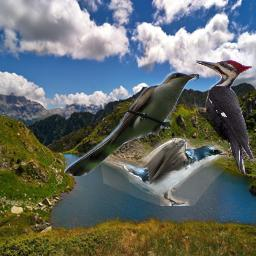Cuckoo: (64, 70, 199, 176)
Swallow: (97, 136, 228, 206)
Woodpecker: (194, 60, 254, 175)
